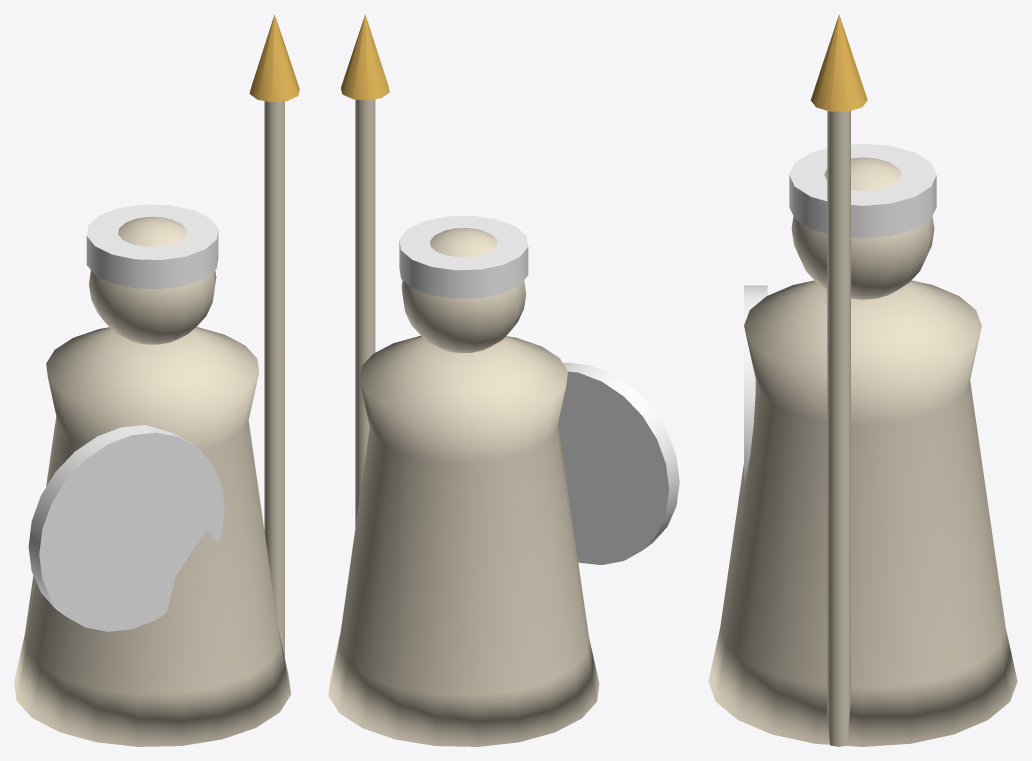
Rendered from warrior.glb.
The picture shows the model from 3 angles, left to right: view 1: azimuth 30°, elevation 25°; view 2: azimuth 150°, elevation 25°; view 3: azimuth 270°, elevation 25°; orthographic projection. The views are drawn at different scales.
Parts seen in each view (by area): view 1: figurka; view 2: figurka; view 3: figurka.
Boxes of the visible parts, left/top/right/bottom form: figurka: left=14, top=14, right=299, bottom=746; figurka: left=328, top=14, right=679, bottom=746; figurka: left=708, top=14, right=1017, bottom=746.
Size of the model in its own units: 0.3228 by 0.675 by 0.26.
